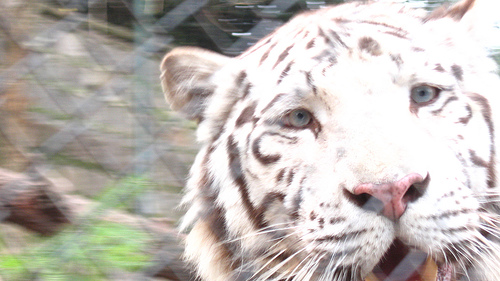Tigre: (199, 32, 487, 281)
